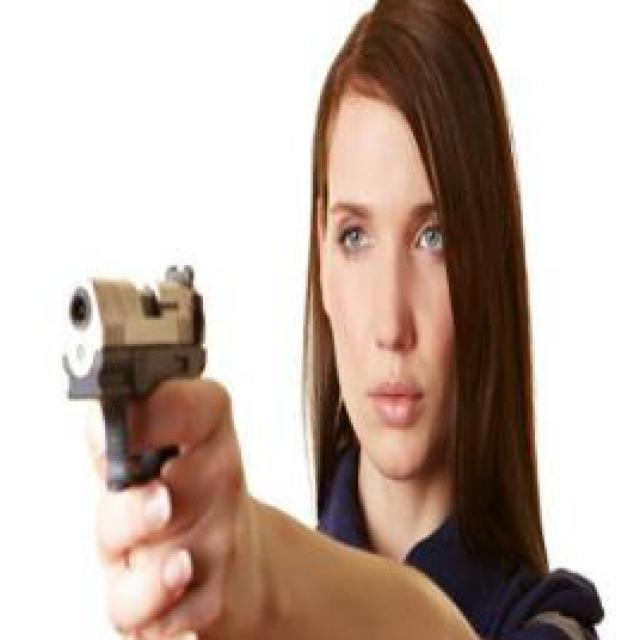pistol: (61, 263, 208, 492)
